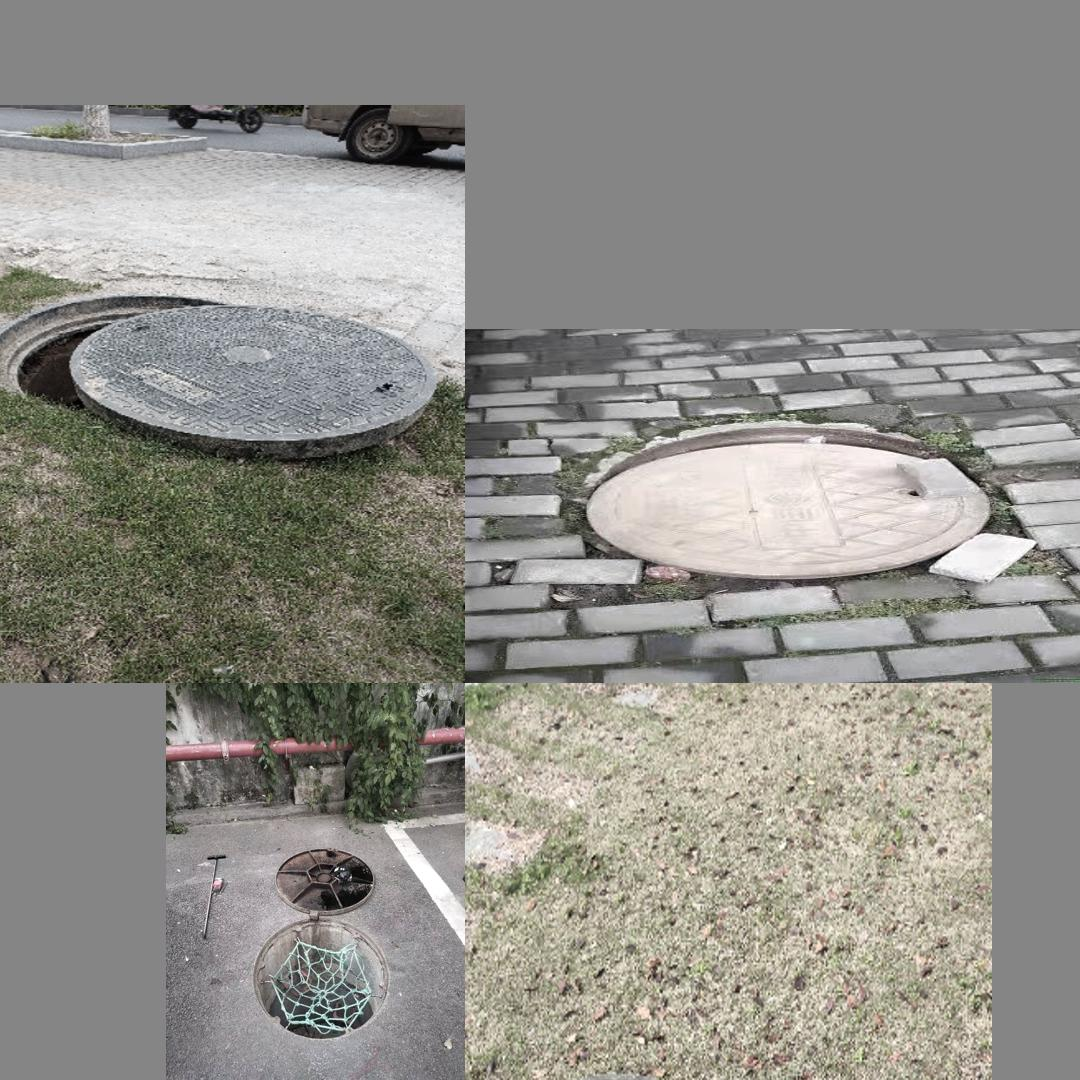uncovered: (0, 292, 433, 462), (584, 419, 992, 580), (238, 836, 404, 1044), (471, 1071, 825, 1080)
